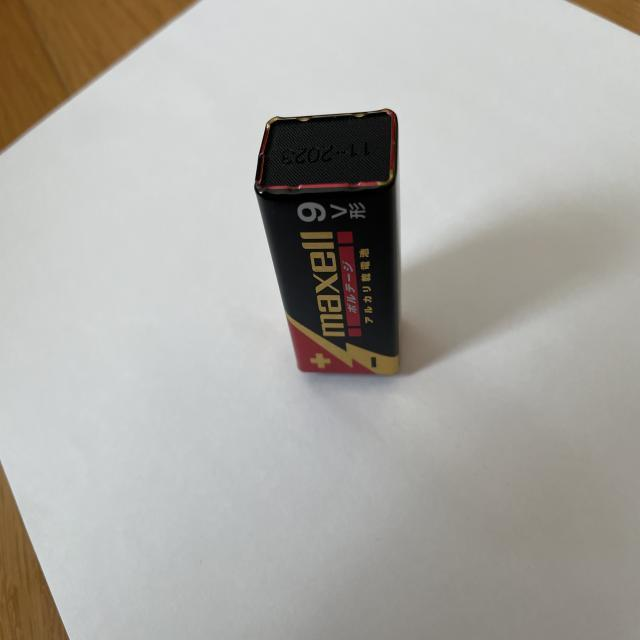9V: (253, 107, 403, 375)
